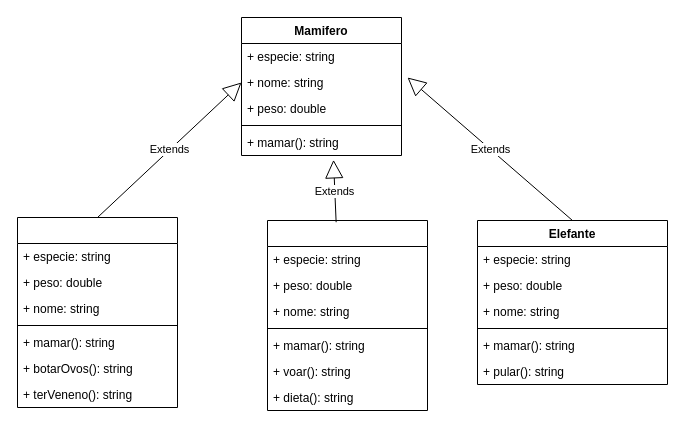
This 685x431 diagram has some shape labels left out. Each missing label, with the box of its shape:
Morcego: (266, 220, 428, 410)
Ornitorrinco: (16, 216, 178, 408)
